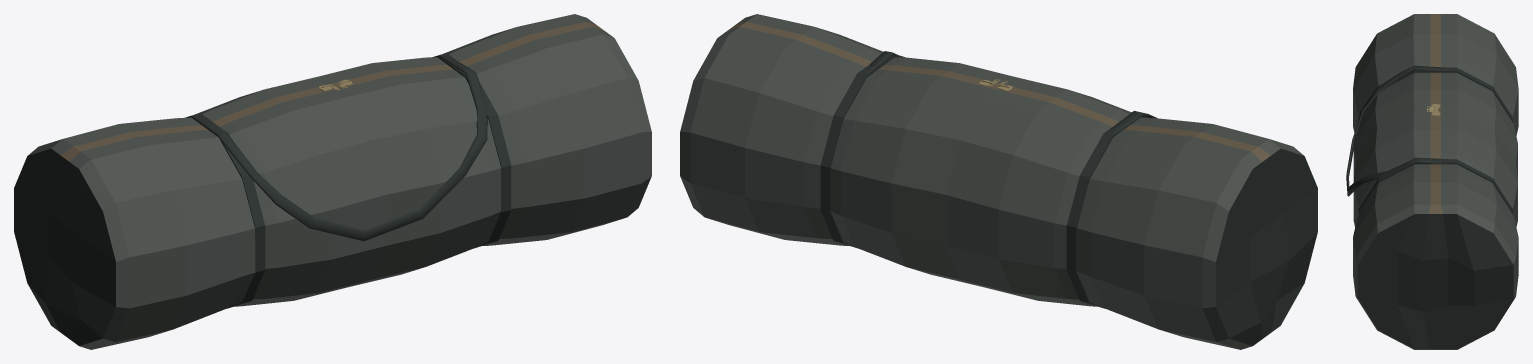
The model's file is duffel-v1.glb.
3 renders of one model, left to right at view 1: azimuth 30°, elevation 25°; view 2: azimuth 150°, elevation 25°; view 3: azimuth 270°, elevation 25°, orthographic. The views are drawn at different scales.
Visible parts, largest first — view 1: Bag, Bag Handle, Bag Handle Strap Right, Bag Handle Strap Left; view 2: Bag, Bag Handle Strap Right, Bag Handle Strap Left, Bag Handle; view 3: Bag, Bag Handle, Bag Handle Strap Right, Bag Handle Strap Left.
Boxes of the visible parts, box(x1,y1,x2,y2) form: Bag: box(14, 14, 651, 349); Bag Handle: box(193, 54, 487, 241); Bag Handle Strap Right: box(432, 53, 511, 247); Bag Handle Strap Left: box(185, 113, 265, 308); Bag: box(680, 14, 1317, 349); Bag Handle Strap Right: box(820, 55, 897, 247); Bag Handle Strap Left: box(1066, 116, 1146, 308); Bag Handle: box(864, 51, 1157, 135); Bag: box(1353, 14, 1518, 349); Bag Handle: box(1346, 65, 1456, 196); Bag Handle Strap Right: box(1358, 159, 1512, 214); Bag Handle Strap Left: box(1363, 67, 1512, 122).
Bounding box in the file's own units: 1 × 0.3332 × 0.3512.
